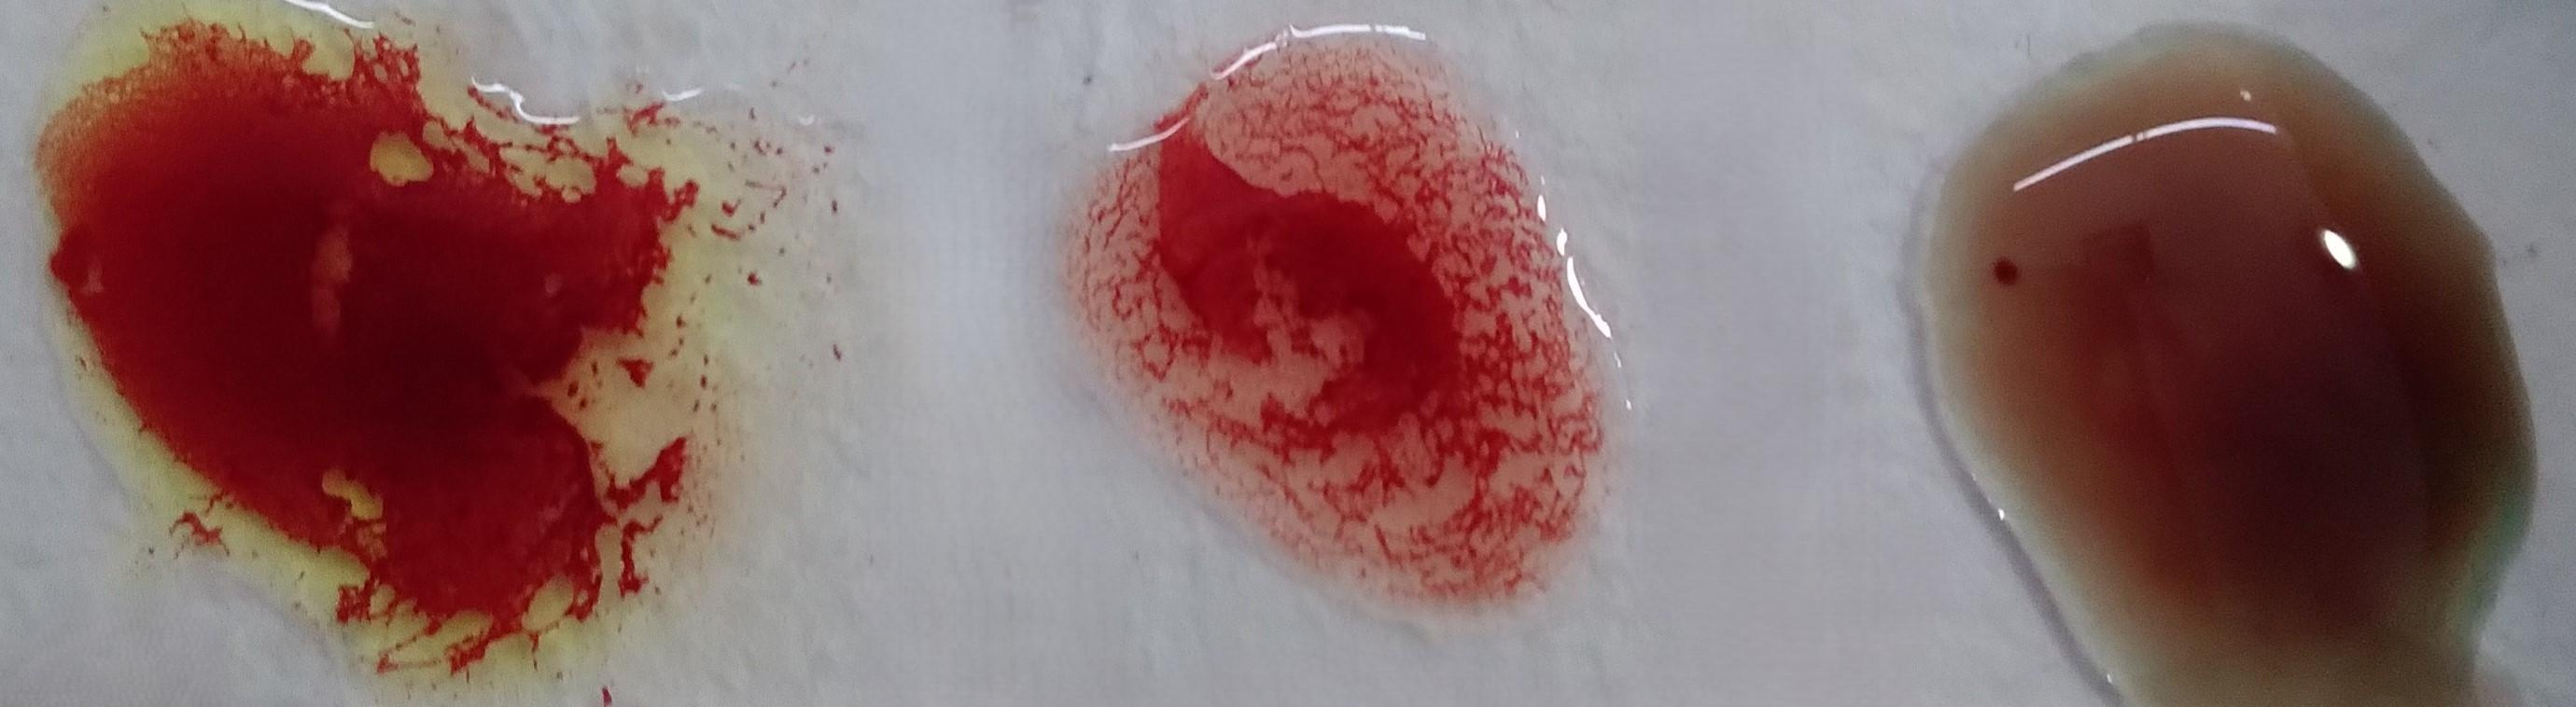B: (23, 16, 749, 707)
D: (1092, 31, 1582, 609)
